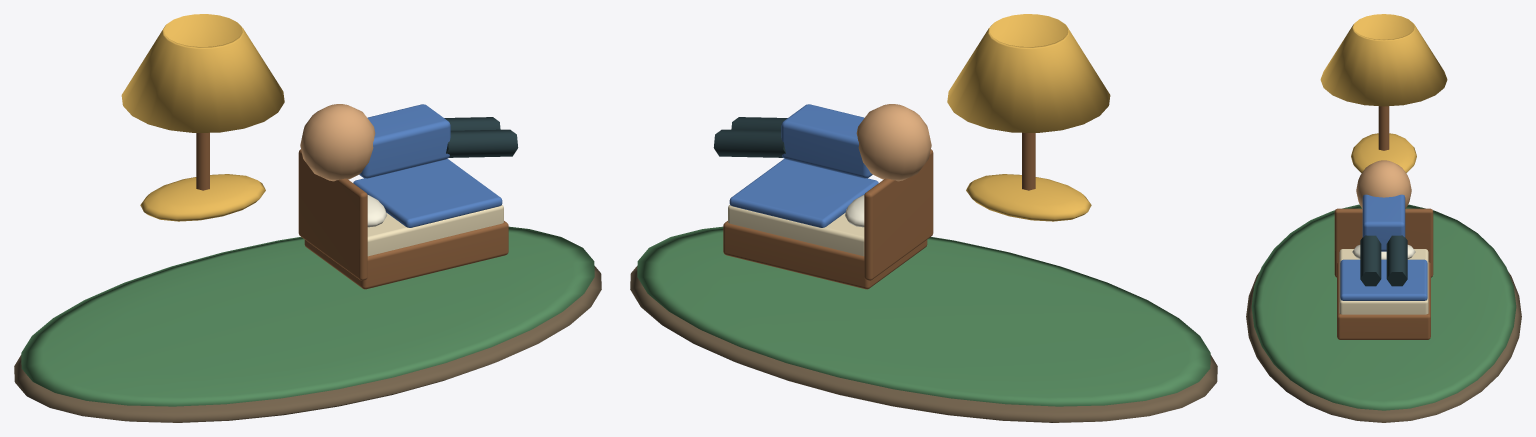
The model's file is complete-second-shine-care.glb.
3 views of the same model, side by side, from view 1: azimuth 30°, elevation 25°; view 2: azimuth 150°, elevation 25°; view 3: azimuth 270°, elevation 25° (orthographic). The views are drawn at different scales.
Parts seen in each view (by area): view 1: complete-second-shine-care_surface_01, complete-second-shine-care_surface_02, complete-second-shine-care_surface_03, complete-second-shine-care_surface_00, complete-second-shine-care_surface_05, complete-second-shine-care_surface_04, complete-second-shine-care_surface_07, complete-second-shine-care_surface_06; view 2: complete-second-shine-care_surface_01, complete-second-shine-care_surface_02, complete-second-shine-care_surface_03, complete-second-shine-care_surface_00, complete-second-shine-care_surface_05, complete-second-shine-care_surface_04, complete-second-shine-care_surface_07, complete-second-shine-care_surface_06; view 3: complete-second-shine-care_surface_01, complete-second-shine-care_surface_02, complete-second-shine-care_surface_03, complete-second-shine-care_surface_00, complete-second-shine-care_surface_05, complete-second-shine-care_surface_06, complete-second-shine-care_surface_07, complete-second-shine-care_surface_04.
Part boxes in pixels (box(x1,y1,x2,y2)): complete-second-shine-care_surface_01: box(21, 226, 594, 406); complete-second-shine-care_surface_02: box(121, 14, 284, 221); complete-second-shine-care_surface_03: box(196, 132, 508, 289); complete-second-shine-care_surface_00: box(14, 266, 601, 422); complete-second-shine-care_surface_05: box(353, 104, 502, 227); complete-second-shine-care_surface_04: box(300, 104, 375, 181); complete-second-shine-care_surface_07: box(367, 205, 503, 256); complete-second-shine-care_surface_06: box(444, 117, 518, 157); complete-second-shine-care_surface_01: box(637, 226, 1210, 406); complete-second-shine-care_surface_02: box(947, 14, 1110, 221); complete-second-shine-care_surface_03: box(723, 132, 1035, 289); complete-second-shine-care_surface_00: box(630, 266, 1217, 422); complete-second-shine-care_surface_05: box(729, 104, 878, 227); complete-second-shine-care_surface_04: box(856, 104, 931, 181); complete-second-shine-care_surface_07: box(728, 205, 864, 256); complete-second-shine-care_surface_06: box(713, 117, 787, 157); complete-second-shine-care_surface_01: box(1251, 204, 1516, 410); complete-second-shine-care_surface_02: box(1320, 14, 1447, 173); complete-second-shine-care_surface_03: box(1334, 106, 1433, 339); complete-second-shine-care_surface_00: box(1246, 271, 1521, 422); complete-second-shine-care_surface_05: box(1340, 194, 1427, 300); complete-second-shine-care_surface_06: box(1360, 235, 1407, 286); complete-second-shine-care_surface_07: box(1339, 249, 1428, 314); complete-second-shine-care_surface_04: box(1356, 160, 1411, 208).
Size of the model in its own units: 4.56 by 2.63 by 2.5.
